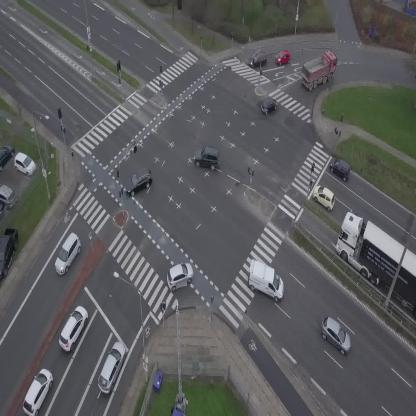car: (93, 339, 130, 395), (18, 366, 57, 416), (55, 303, 93, 354), (313, 314, 359, 356), (49, 231, 87, 277), (161, 258, 198, 293), (119, 166, 157, 198), (309, 183, 340, 212), (326, 154, 356, 182), (192, 145, 223, 172), (258, 94, 280, 116), (247, 50, 269, 68), (273, 48, 292, 66), (350, 210, 368, 218)
lorry: (240, 258, 292, 303), (294, 48, 345, 93)
